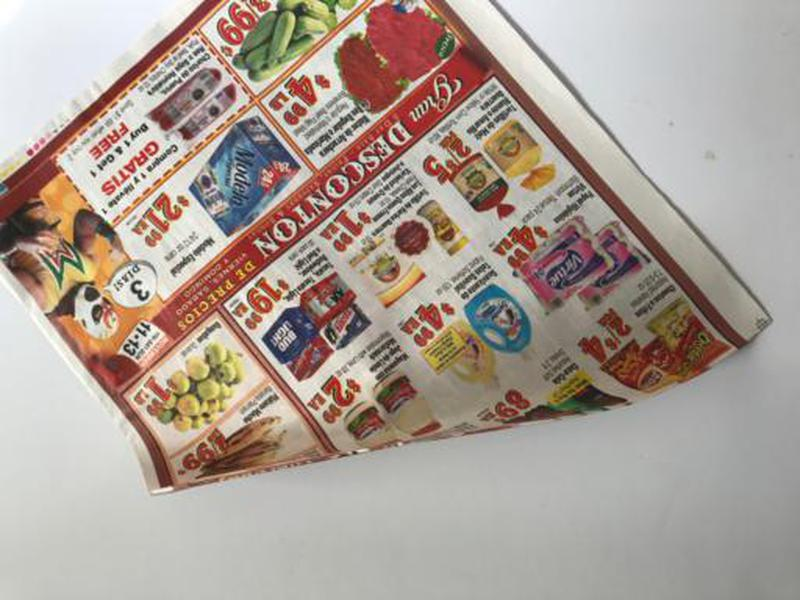paper: (1, 1, 775, 500)
